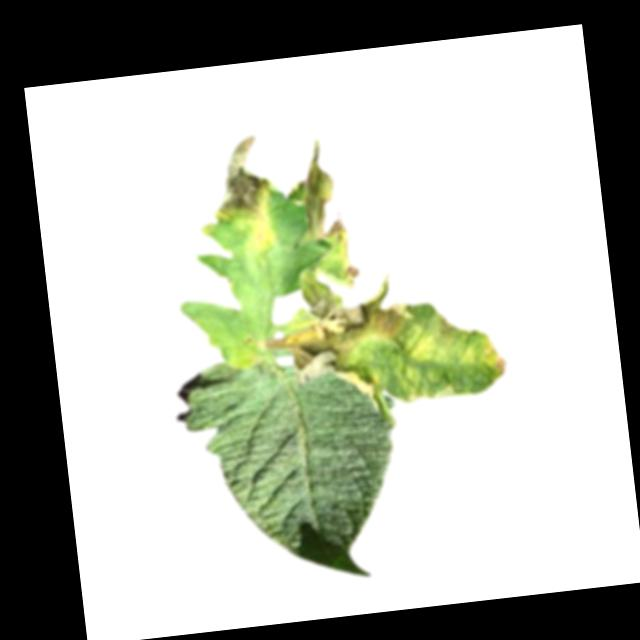Late_blight: (264, 259, 416, 384), (283, 136, 349, 250), (201, 134, 275, 230), (423, 306, 460, 351), (331, 243, 361, 289), (478, 336, 507, 382)
healthy: (181, 343, 415, 595)
